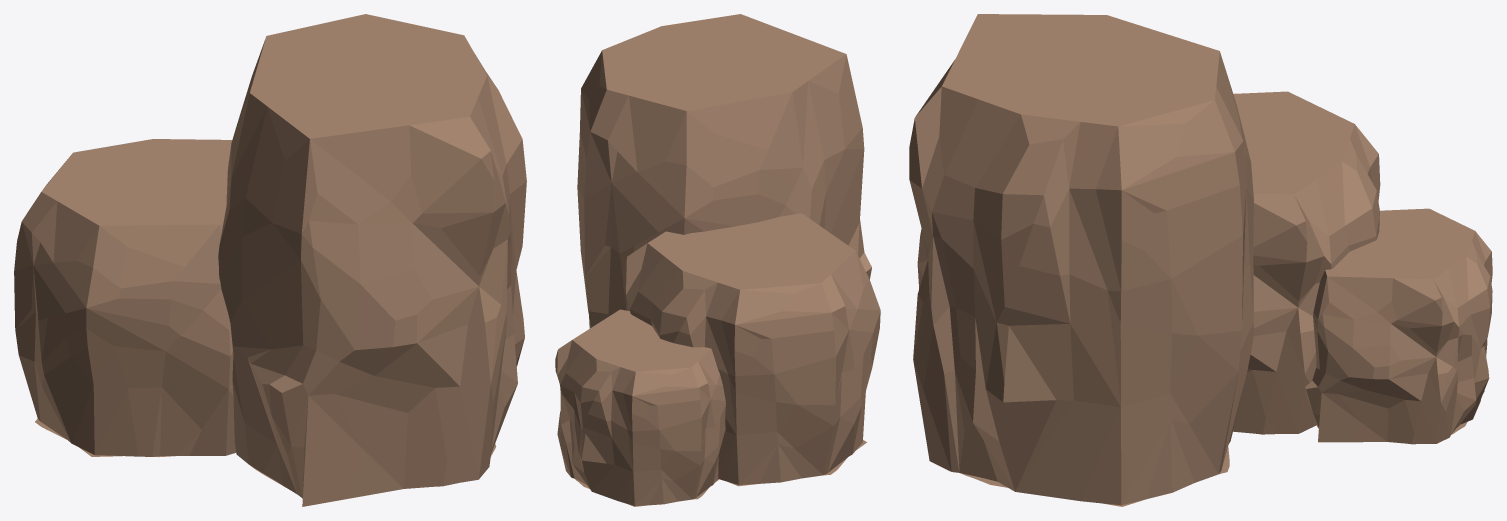
The model's file is Cliff.fbx.
3 views of the same model, side by side, from view 1: azimuth 30°, elevation 25°; view 2: azimuth 150°, elevation 25°; view 3: azimuth 270°, elevation 25° (orthographic). The views are drawn at different scales.
Visible parts, largest first — view 1: polySurface3, polySurface2; view 2: polySurface3, polySurface2, polySurface1; view 3: polySurface3, polySurface1, polySurface2.
Boxes of the visible parts, <box> form: polySurface3: <box>218,14,526,506</box>; polySurface2: <box>14,139,236,457</box>; polySurface3: <box>577,14,871,328</box>; polySurface2: <box>623,213,880,486</box>; polySurface1: <box>555,309,725,506</box>; polySurface3: <box>909,14,1253,506</box>; polySurface1: <box>1305,208,1492,444</box>; polySurface2: <box>1233,91,1380,434</box>.
Size of the model in its own units: 33.2 by 29.3 by 41.5.
